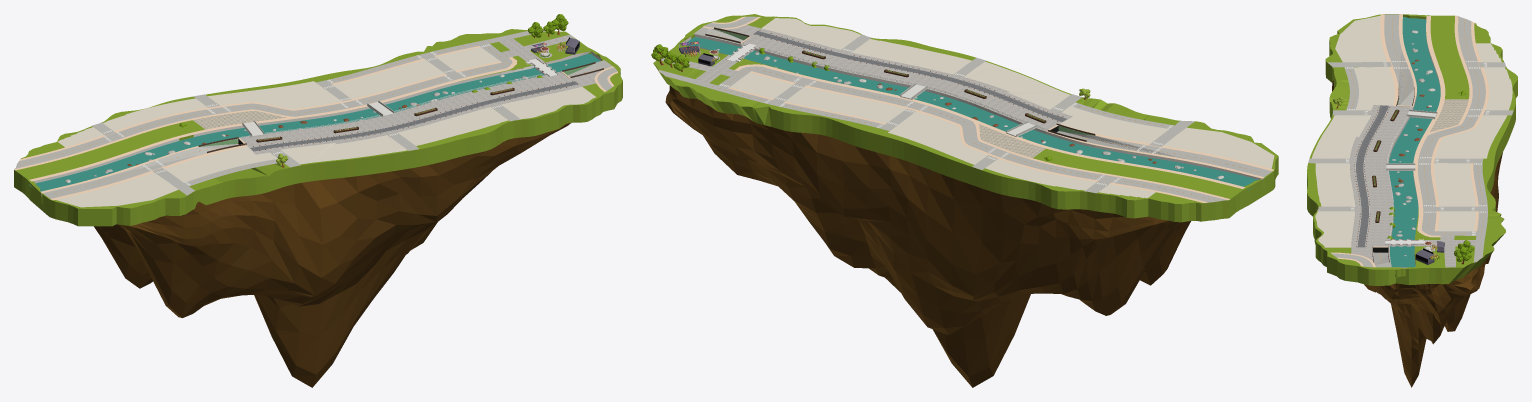
File: evento_sucursal_fest.glb
3 views of the same model, side by side, from view 1: azimuth 30°, elevation 25°; view 2: azimuth 150°, elevation 25°; view 3: azimuth 270°, elevation 25° (orthographic). The views are drawn at different scales.
Visible parts, largest first — view 1: isla_cesped_003001_023_174, isla_cesped_003_022_175, cuadras_pavimento_024_021_007, calle_av1norte_015_011_156, bulevar_corredor_tunel_018_009_003, rio_agua_183, anden_av1norte_021_001_001, rio_muros_004_031_170, ciclorruta_012_018_004, suelo_gato_del_rio_036_032_009, retreta_caminos_025001_042_008, isla_superficie (+1 smaller); view 2: isla_cesped_003001_023_174, isla_cesped_003_022_175, cuadras_pavimento_024_021_007, calle_av1norte_015_011_156, bulevar_corredor_tunel_018_009_003, rio_agua_183, anden_av1norte_021_001_001, rio_muros_004_031_170, ciclorruta_012_018_004, suelo_gato_del_rio_036_032_009, isla_superficie, retreta_caminos_025001_042_008 (+1 smaller); view 3: cuadras_pavimento_024_021_007, isla_cesped_003_022_175, calle_av1norte_015_011_156, isla_cesped_003001_023_174, rio_agua_183, bulevar_corredor_tunel_018_009_003, anden_av1norte_021_001_001, ciclorruta_012_018_004, suelo_gato_del_rio_036_032_009, retreta_caminos_025001_042_008, isla_superficie, cebras_017_157 (+7 smaller).
Boxes of the visible parts, left/top/right/bottom form: isla_cesped_003001_023_174: left=94, top=123, right=570, bottom=387; isla_cesped_003_022_175: left=14, top=29, right=622, bottom=226; cuadras_pavimento_024_021_007: left=55, top=47, right=595, bottom=207; calle_av1norte_015_011_156: left=15, top=30, right=617, bottom=198; bulevar_corredor_tunel_018_009_003: left=240, top=60, right=604, bottom=154; rio_agua_183: left=29, top=53, right=600, bottom=191; anden_av1norte_021_001_001: left=14, top=46, right=617, bottom=200; rio_muros_004_031_170: left=34, top=51, right=602, bottom=196; ciclorruta_012_018_004: left=250, top=81, right=578, bottom=151; suelo_gato_del_rio_036_032_009: left=193, top=111, right=285, bottom=129; retreta_caminos_025001_042_008: left=499, top=35, right=575, bottom=65; isla_superficie: left=179, top=14, right=568, bottom=167; isla_cesped_003001_023_174: left=665, top=86, right=1190, bottom=387; isla_cesped_003_022_175: left=653, top=14, right=1278, bottom=222; cuadras_pavimento_024_021_007: left=730, top=18, right=1274, bottom=198; calle_av1norte_015_011_156: left=659, top=16, right=1271, bottom=202; bulevar_corredor_tunel_018_009_003: left=694, top=25, right=1072, bottom=131; rio_agua_183: left=687, top=37, right=1258, bottom=190; anden_av1norte_021_001_001: left=702, top=16, right=1273, bottom=202; rio_muros_004_031_170: left=682, top=34, right=1263, bottom=184; ciclorruta_012_018_004: left=754, top=31, right=1066, bottom=121; suelo_gato_del_rio_036_032_009: left=979, top=124, right=1045, bottom=157; isla_superficie: left=651, top=44, right=1090, bottom=160; retreta_caminos_025001_042_008: left=661, top=55, right=741, bottom=82; cuadras_pavimento_024_021_007: left=1311, top=15, right=1512, bottom=247; isla_cesped_003_022_175: left=1307, top=14, right=1517, bottom=285; calle_av1norte_015_011_156: left=1308, top=14, right=1513, bottom=267; isla_cesped_003001_023_174: left=1332, top=80, right=1502, bottom=387; rio_agua_183: left=1389, top=17, right=1440, bottom=267; bulevar_corredor_tunel_018_009_003: left=1350, top=104, right=1412, bottom=267; anden_av1norte_021_001_001: left=1331, top=14, right=1488, bottom=267; ciclorruta_012_018_004: left=1356, top=105, right=1388, bottom=247; suelo_gato_del_rio_036_032_009: left=1430, top=99, right=1468, bottom=132; retreta_caminos_025001_042_008: left=1414, top=235, right=1475, bottom=267; isla_superficie: left=1333, top=91, right=1474, bottom=264; cebras_017_157: left=1345, top=61, right=1489, bottom=235.
Size of the model in its own units: 46.28 by 22.46 by 16.13.
128 materials, 6 textured.
